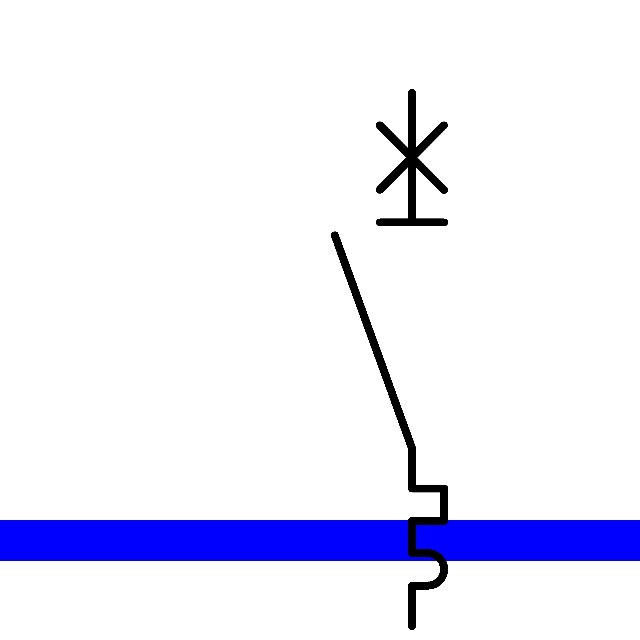interruptor_termomagnetico: (321, 79, 458, 640)
